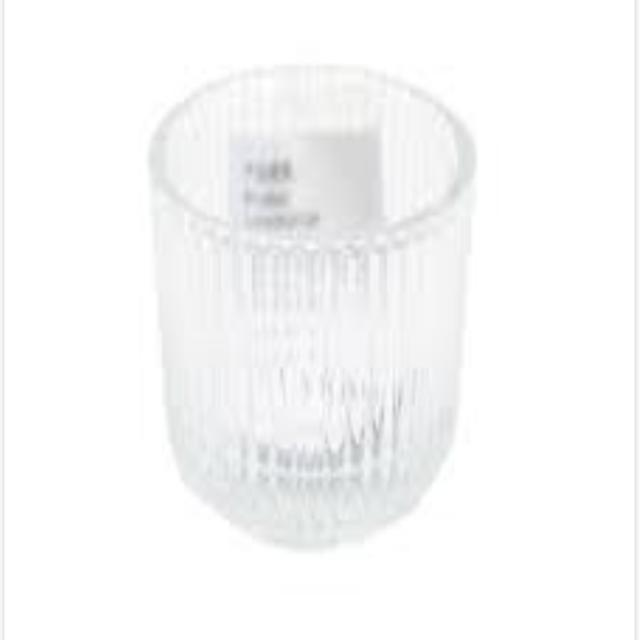recyclable: (133, 45, 485, 569)
